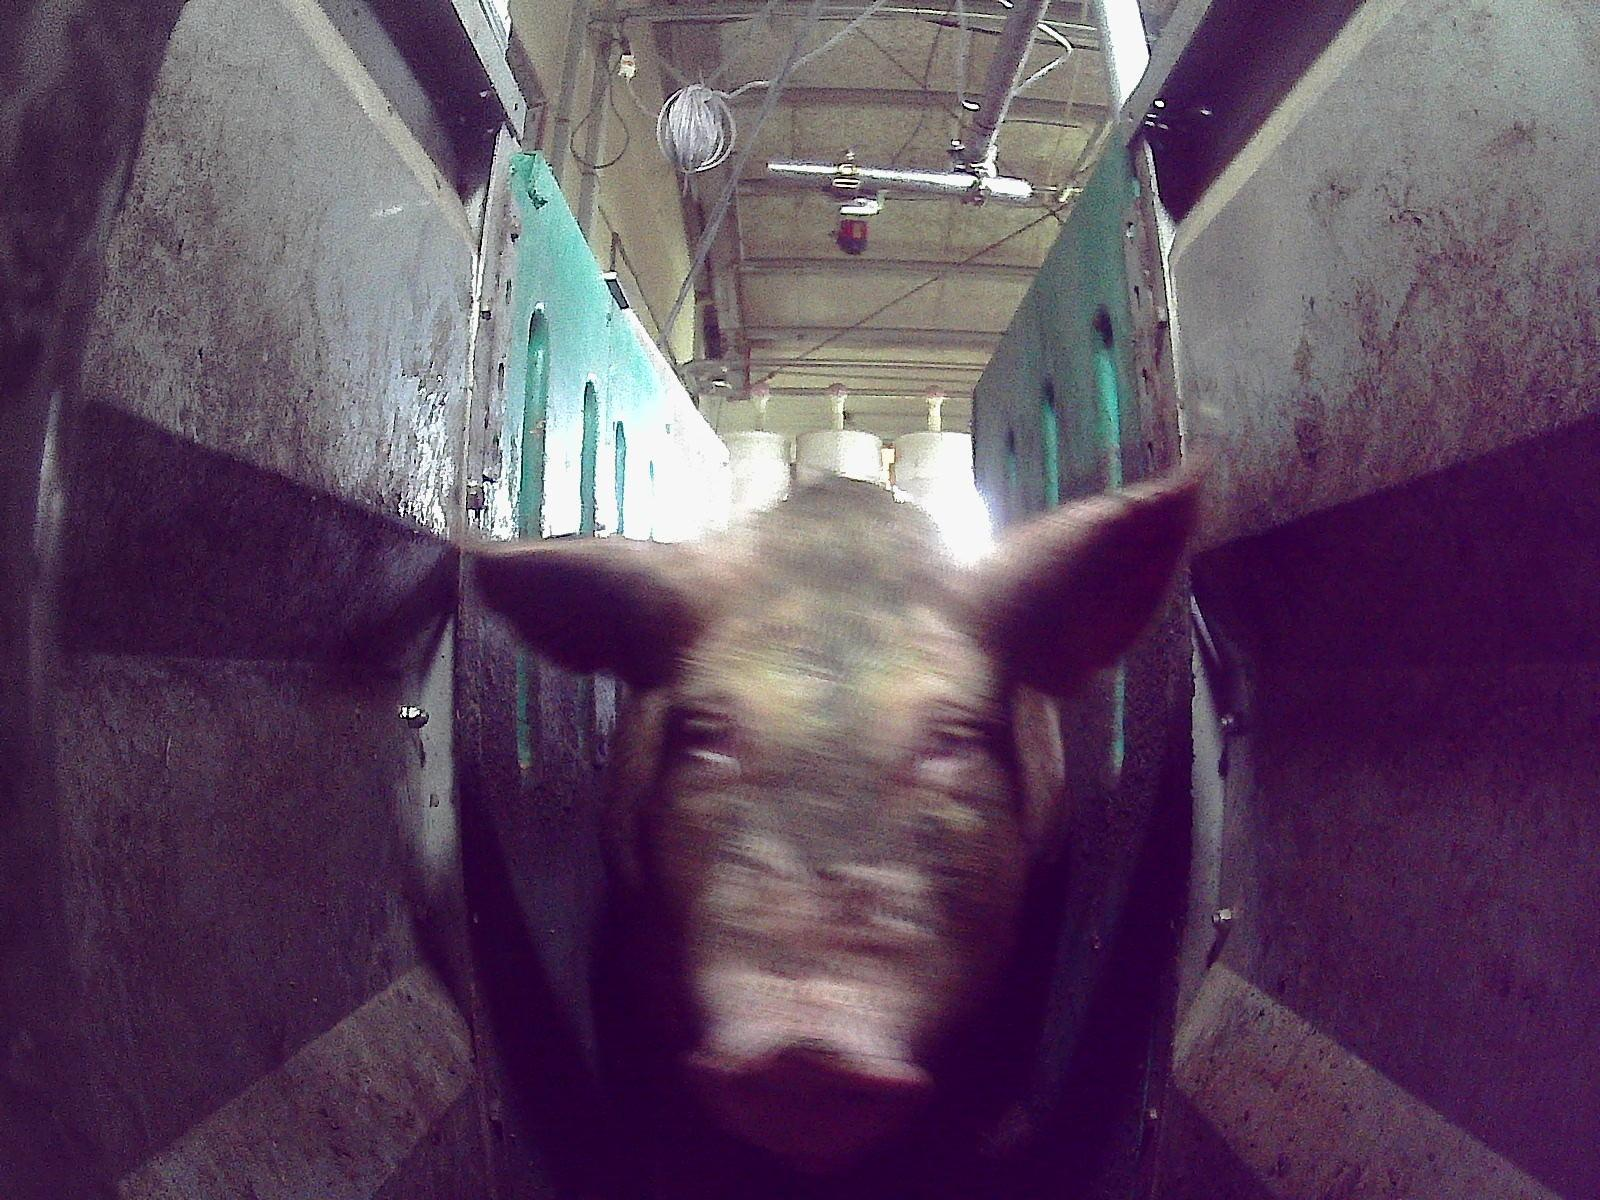Face: (639, 525, 1037, 1175)
